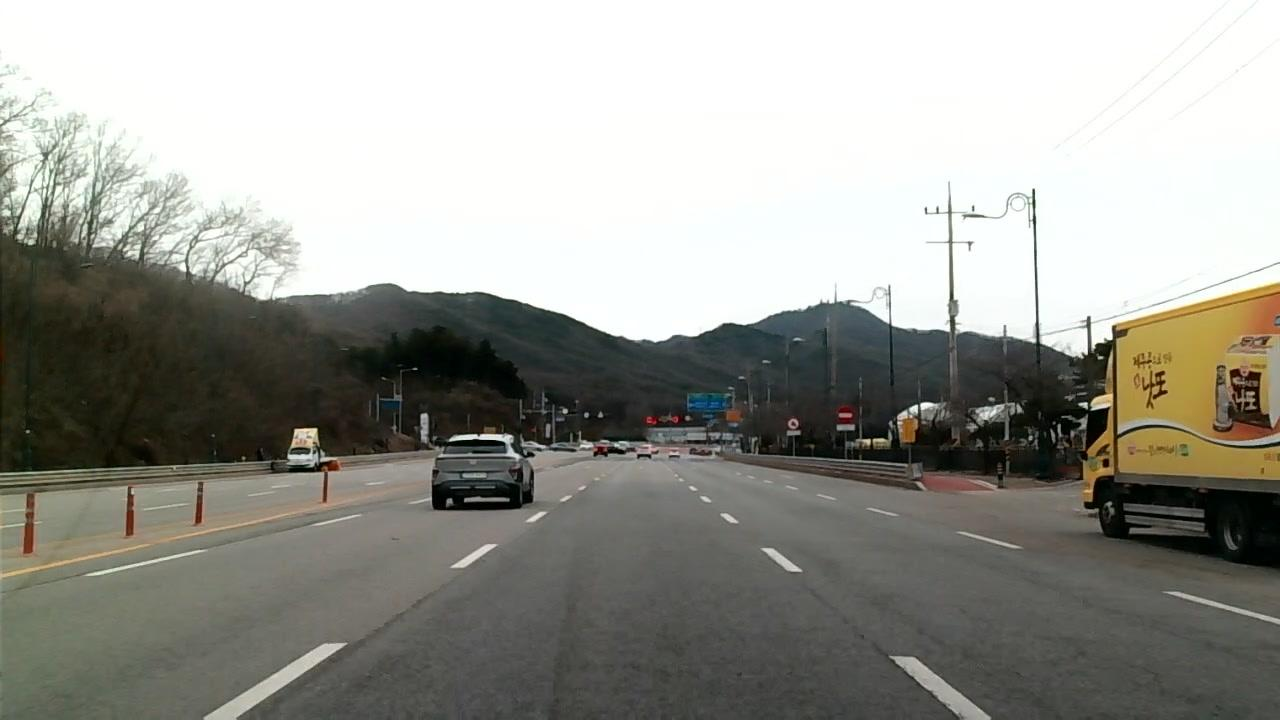banner: (799, 586, 951, 714), (1048, 586, 1224, 649), (345, 577, 450, 652)
